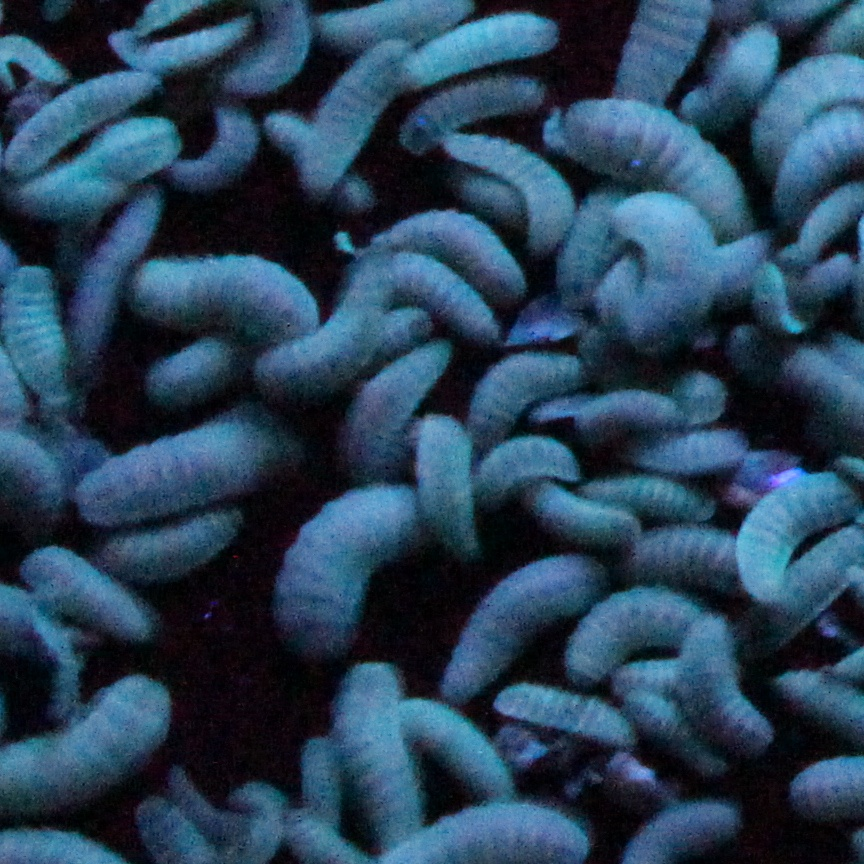larve: (62, 410, 305, 524), (564, 98, 767, 233), (271, 477, 422, 643), (448, 557, 609, 702), (250, 252, 397, 393), (131, 255, 329, 345), (298, 40, 412, 196), (334, 338, 457, 474), (617, 196, 721, 350), (676, 607, 779, 752), (337, 665, 422, 837), (740, 471, 855, 596), (5, 71, 153, 167), (571, 590, 702, 688), (376, 246, 505, 345), (24, 548, 153, 641), (9, 260, 83, 414), (398, 76, 552, 146), (103, 507, 252, 576), (414, 10, 560, 77), (491, 693, 641, 748), (533, 479, 643, 550), (176, 105, 252, 184), (471, 438, 591, 488), (584, 477, 724, 519), (576, 391, 681, 434)
